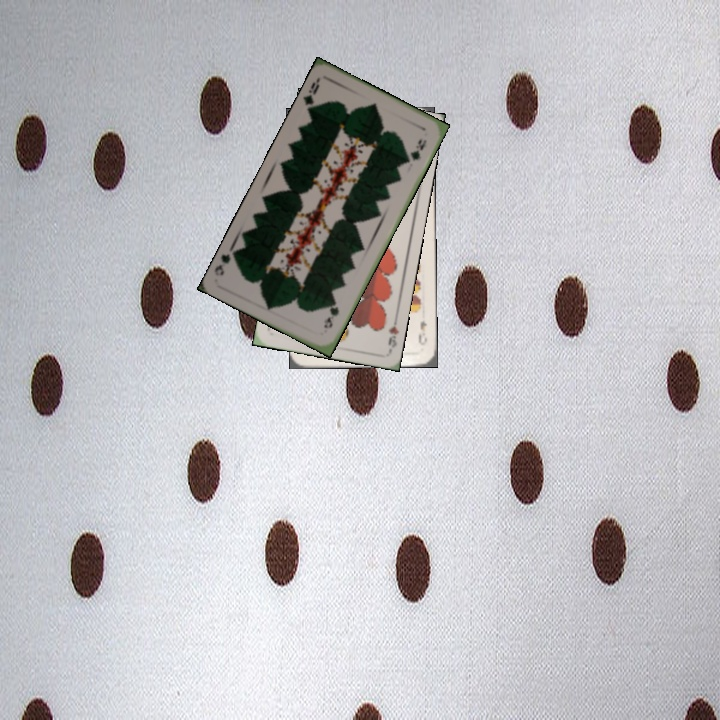E9: (415, 317, 429, 347)
G9: (300, 75, 323, 116), (320, 297, 342, 331)
H9: (384, 312, 401, 350)
